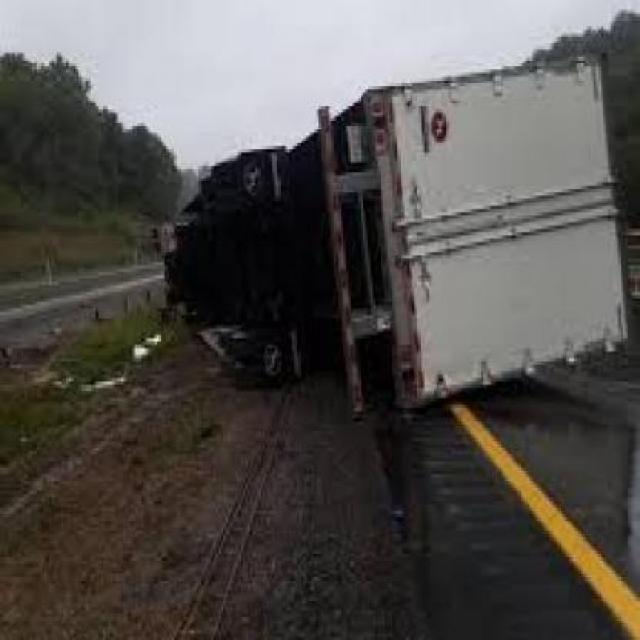accident: (148, 50, 606, 418)
